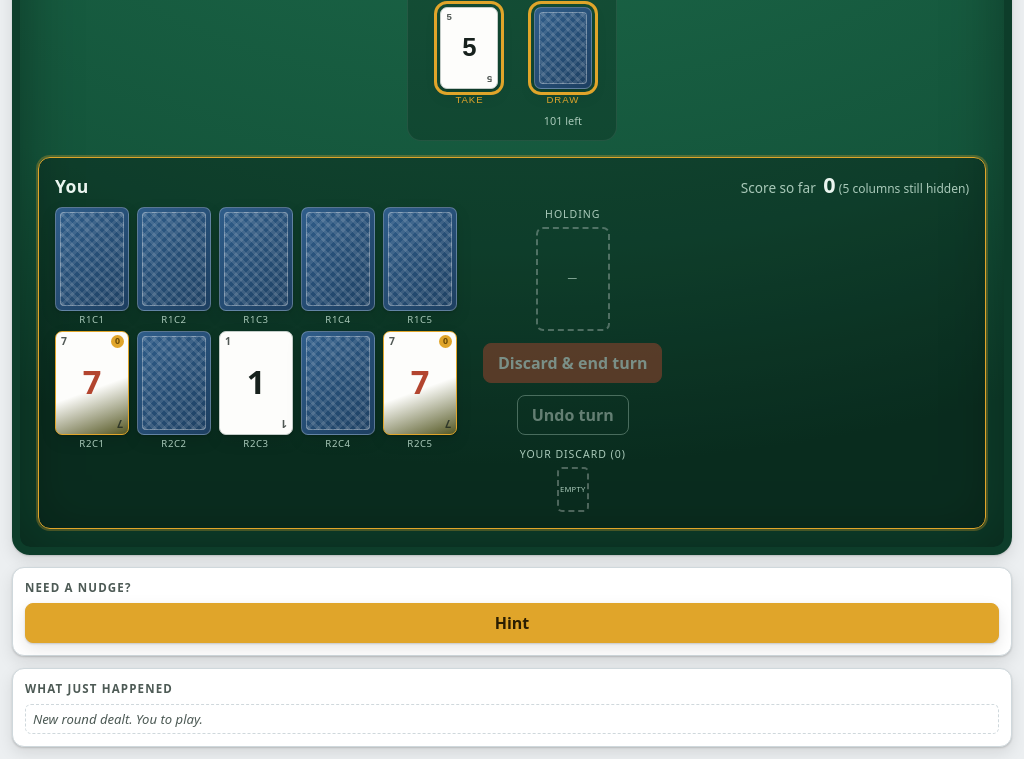
Test: the hint button › surfaces a suggestion for the human position
This screenshot has width=1024, height=759.
(page scrolled)
What coordinates should you click on to do the following:
click the button "Hint"
I would click on:
 (512, 623)
Its box is [25,603,999,643].
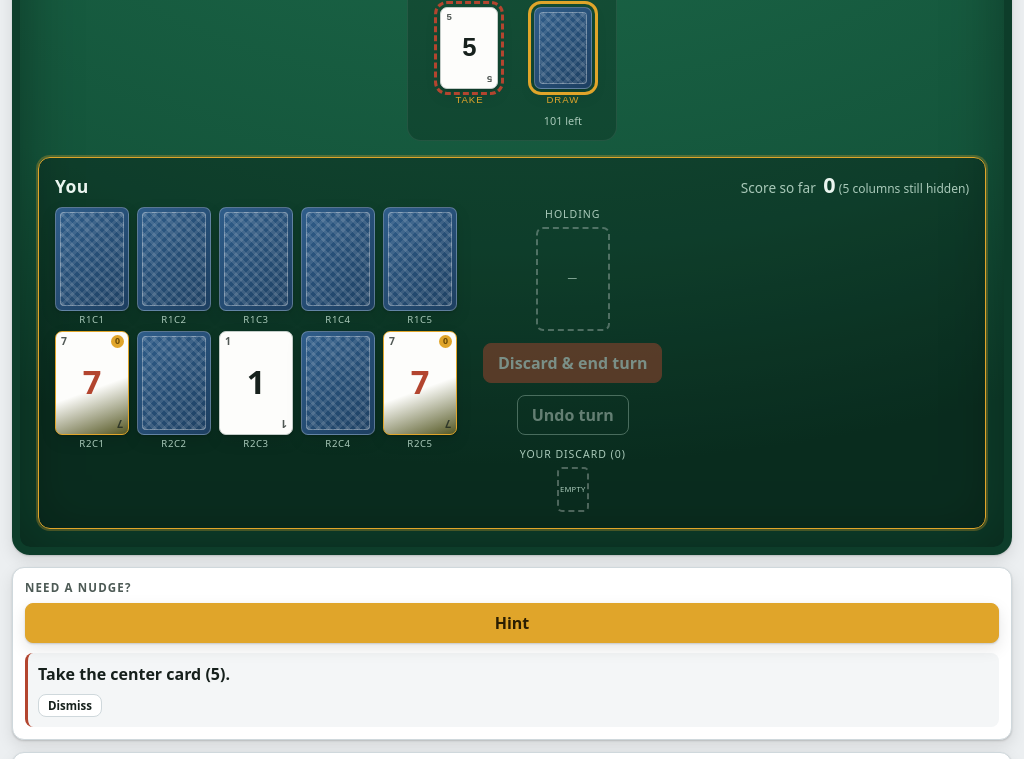
Now the message "Take the center card (5). Dismiss" is shown, box [25,653,999,727]
Now the message with test id "hint-text" reads "Take the center card (5). Dismiss", box [38,663,230,685]
